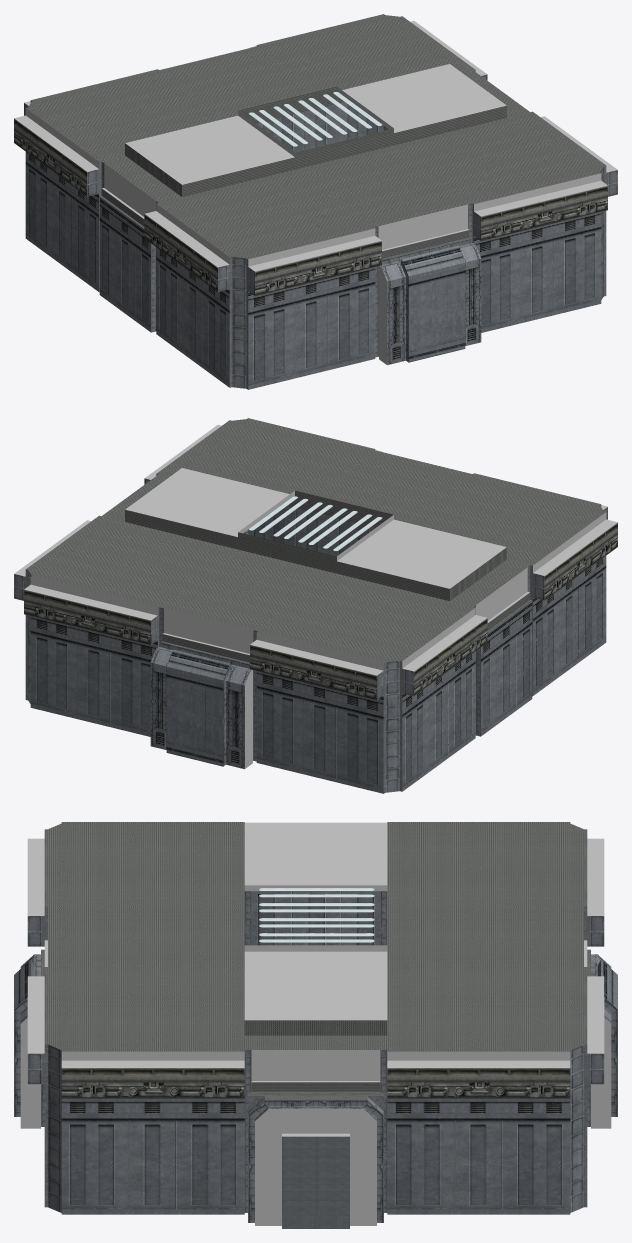
File: poi_all_impl_bunker_warren_s01_r9_smallroom9_mesh_r9.fbx
The picture shows the model from 3 angles, top to bottom: view 1: azimuth 30°, elevation 25°; view 2: azimuth 150°, elevation 25°; view 3: azimuth 270°, elevation 25°; orthographic projection. The views are drawn at different scales.
Visible parts, largest first — view 1: mesh_node; view 2: mesh_node; view 3: mesh_node.
Boxes of the visible parts, left/top/right/bottom form: mesh_node: left=14, top=14, right=617, bottom=389; mesh_node: left=14, top=418, right=617, bottom=793; mesh_node: left=14, top=822, right=617, bottom=1228.
Size of the model in its own units: 17.5 by 6 by 17.8.
